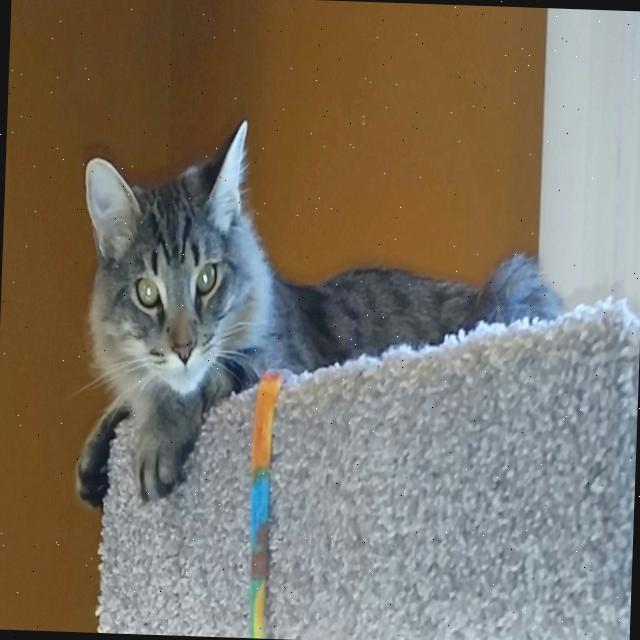maine_coon_cat: (69, 105, 280, 437)
